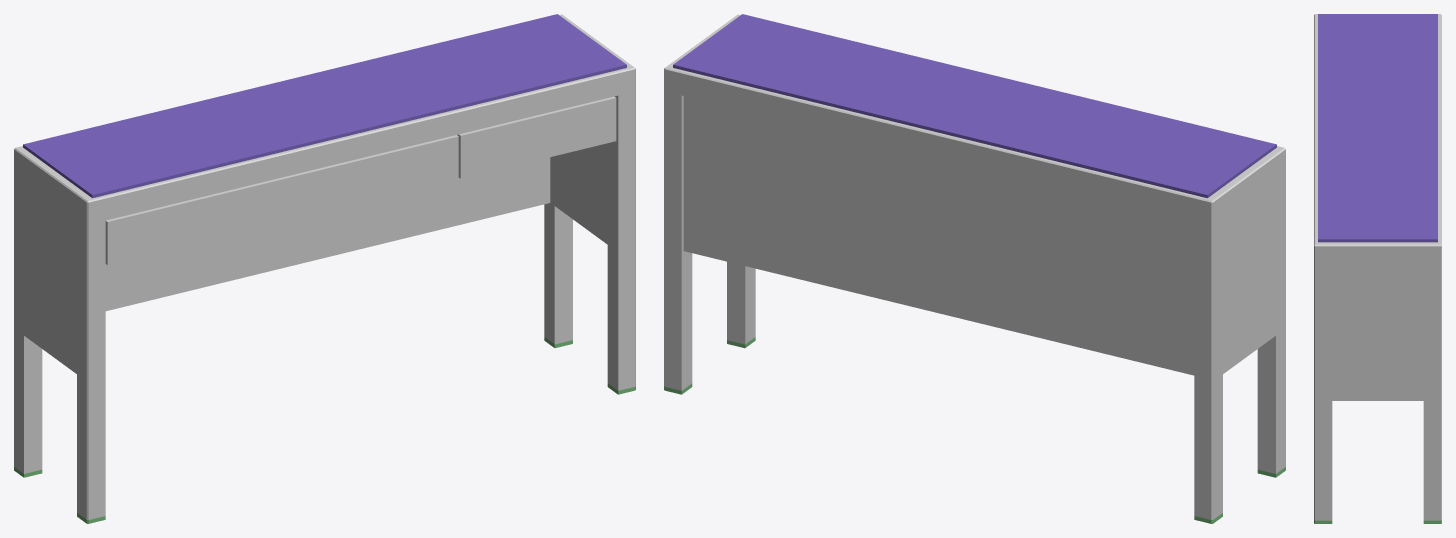
The model's file is MZCCS01.FBX.
3 renders of one model, left to right at view 1: azimuth 30°, elevation 25°; view 2: azimuth 150°, elevation 25°; view 3: azimuth 270°, elevation 25°, orthographic. The views are drawn at different scales.
Parts seen in each view (by area): view 1: MZCCS01; view 2: MZCCS01; view 3: MZCCS01.
Part boxes in pixels (x1,y1,x2,y2): MZCCS01: (14, 14, 635, 523); MZCCS01: (664, 14, 1285, 523); MZCCS01: (1314, 14, 1441, 523).
Size of the model in its own units: 150 by 35 by 85.
